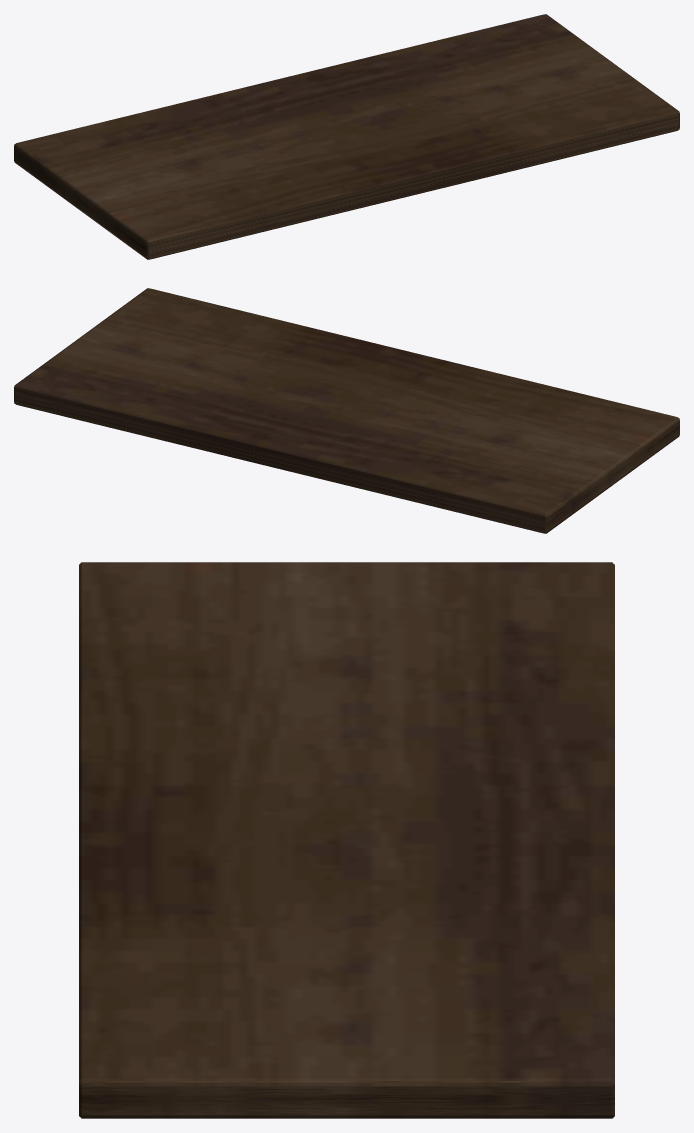
3 renders of one model, top to bottom at view 1: azimuth 30°, elevation 25°; view 2: azimuth 150°, elevation 25°; view 3: azimuth 270°, elevation 25°, orthographic. The views are drawn at different scales.
Parts seen in each view (by area): view 1: Metal___Stainless_steel.002_1; view 2: Metal___Stainless_steel.002_1; view 3: Metal___Stainless_steel.002_1.
Boxes of the visible parts, x1=… form: Metal___Stainless_steel.002_1: x1=14, y1=14, x2=679, y2=259; Metal___Stainless_steel.002_1: x1=14, y1=288, x2=679, y2=533; Metal___Stainless_steel.002_1: x1=79, y1=562, x2=614, y2=1118.
Bounding box in the file's own units: 0.4317 × 0.0152 × 0.1879.
Materials: 1 (1 with a texture image).
